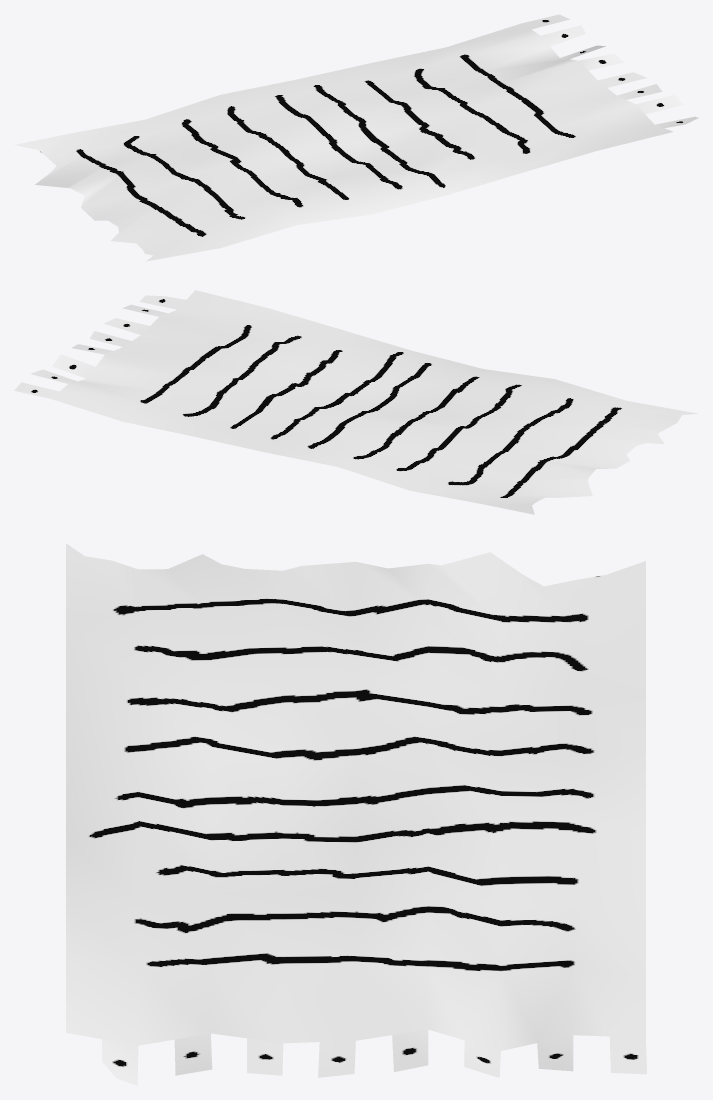
File: Notepad.fbx
3 views of the same model, one above another, from view 1: azimuth 30°, elevation 25°; view 2: azimuth 150°, elevation 25°; view 3: azimuth 270°, elevation 25° (orthographic). The views are drawn at different scales.
Visible parts, largest first — view 1: Plane; view 2: Plane; view 3: Plane.
Boxes of the visible parts, x1,y1,x2,y2 form: Plane: (15, 14, 698, 261); Plane: (14, 290, 697, 514); Plane: (66, 543, 646, 1085).
Bounding box in the file's own units: 292 × 5.77 × 135.
